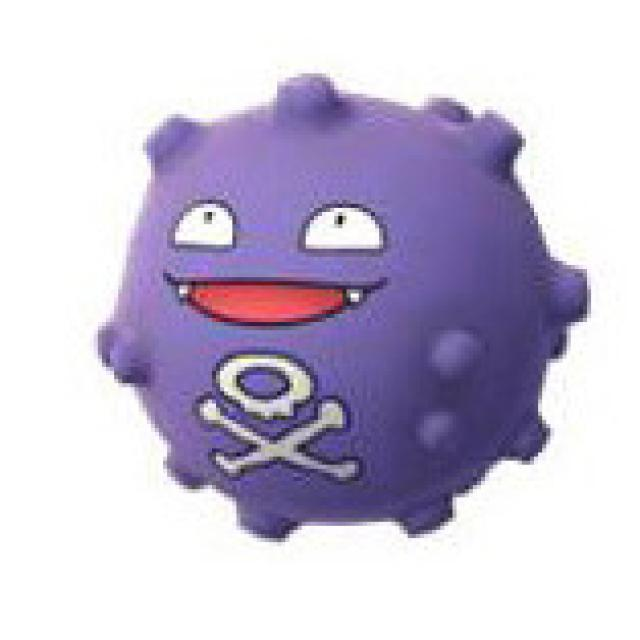Koffing: (108, 100, 542, 526)
